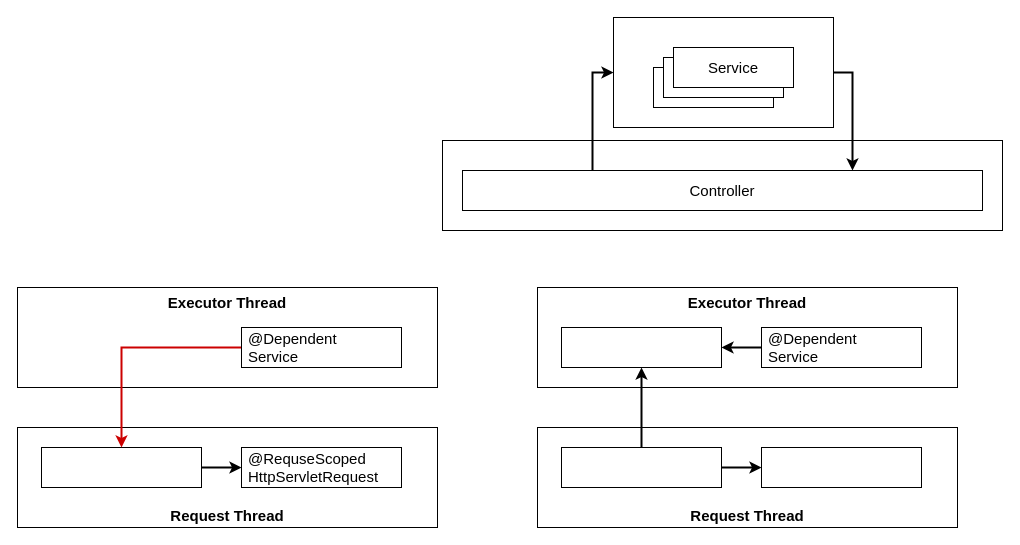
Image size: 1020x545. Some labels were removed from this diagram. Here are the shapes that lost their labels. From the top down, the box of each, then its label:
(612, 16, 834, 128): ExecutorServiceThreadpool
(442, 140, 1002, 230): Request Threadpool
(560, 326, 722, 368): @Dependent Context
(40, 446, 202, 488): @RequestScoped Context
(560, 446, 722, 488): @RequestScoped ContextProducer
(760, 446, 922, 488): @RequestScoped HttpServletRequest
